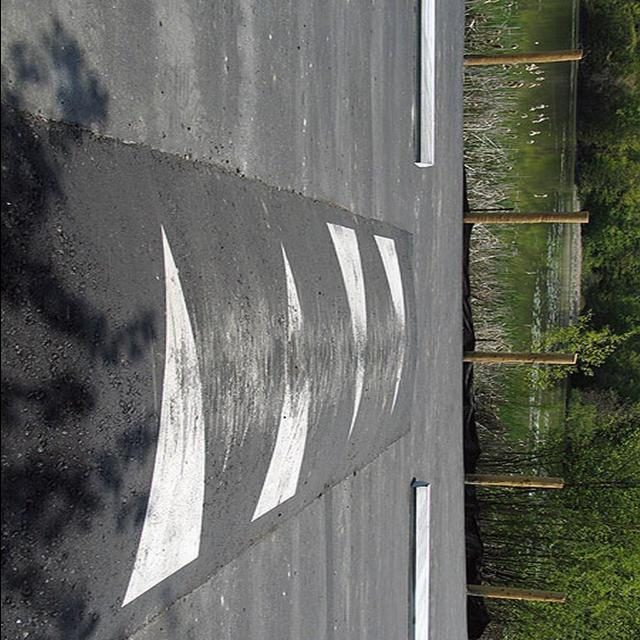speedbreaker: (0, 120, 423, 640)
